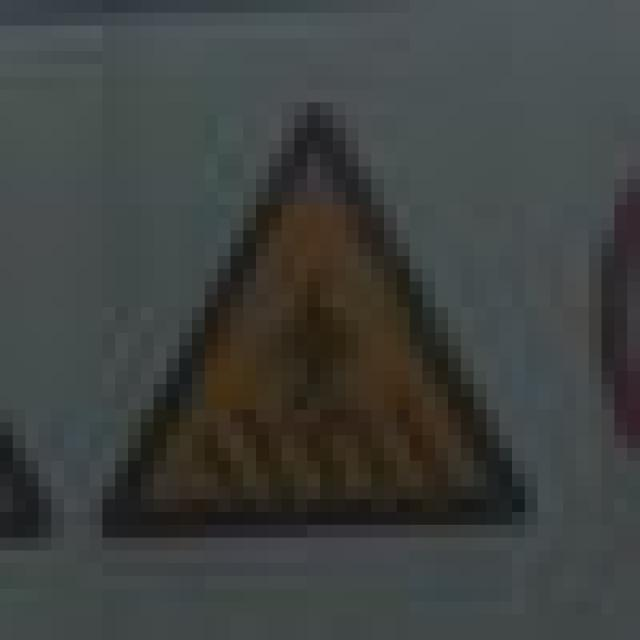PEDESTRIAN_CROSSING: (77, 90, 525, 524)
